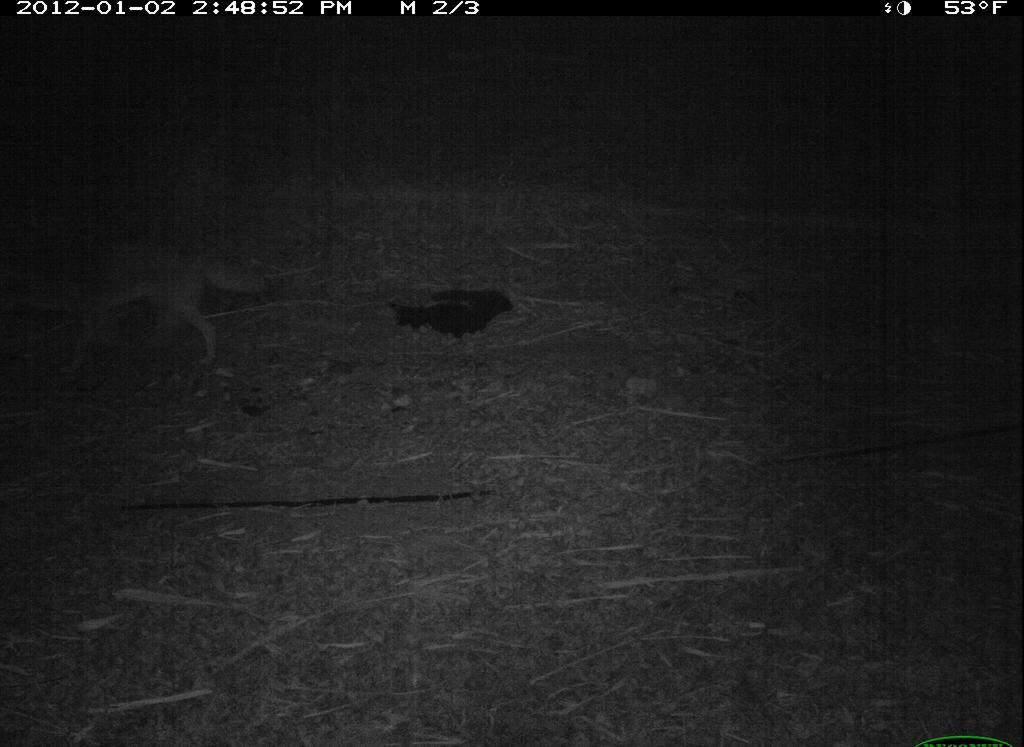coyote: (4, 231, 277, 388)
